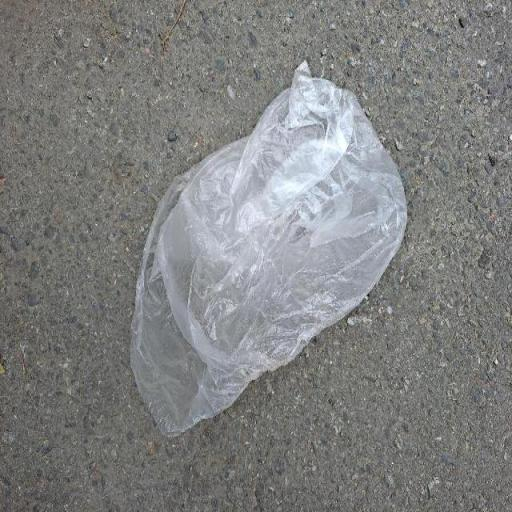plastic-bag: (126, 53, 412, 439)
